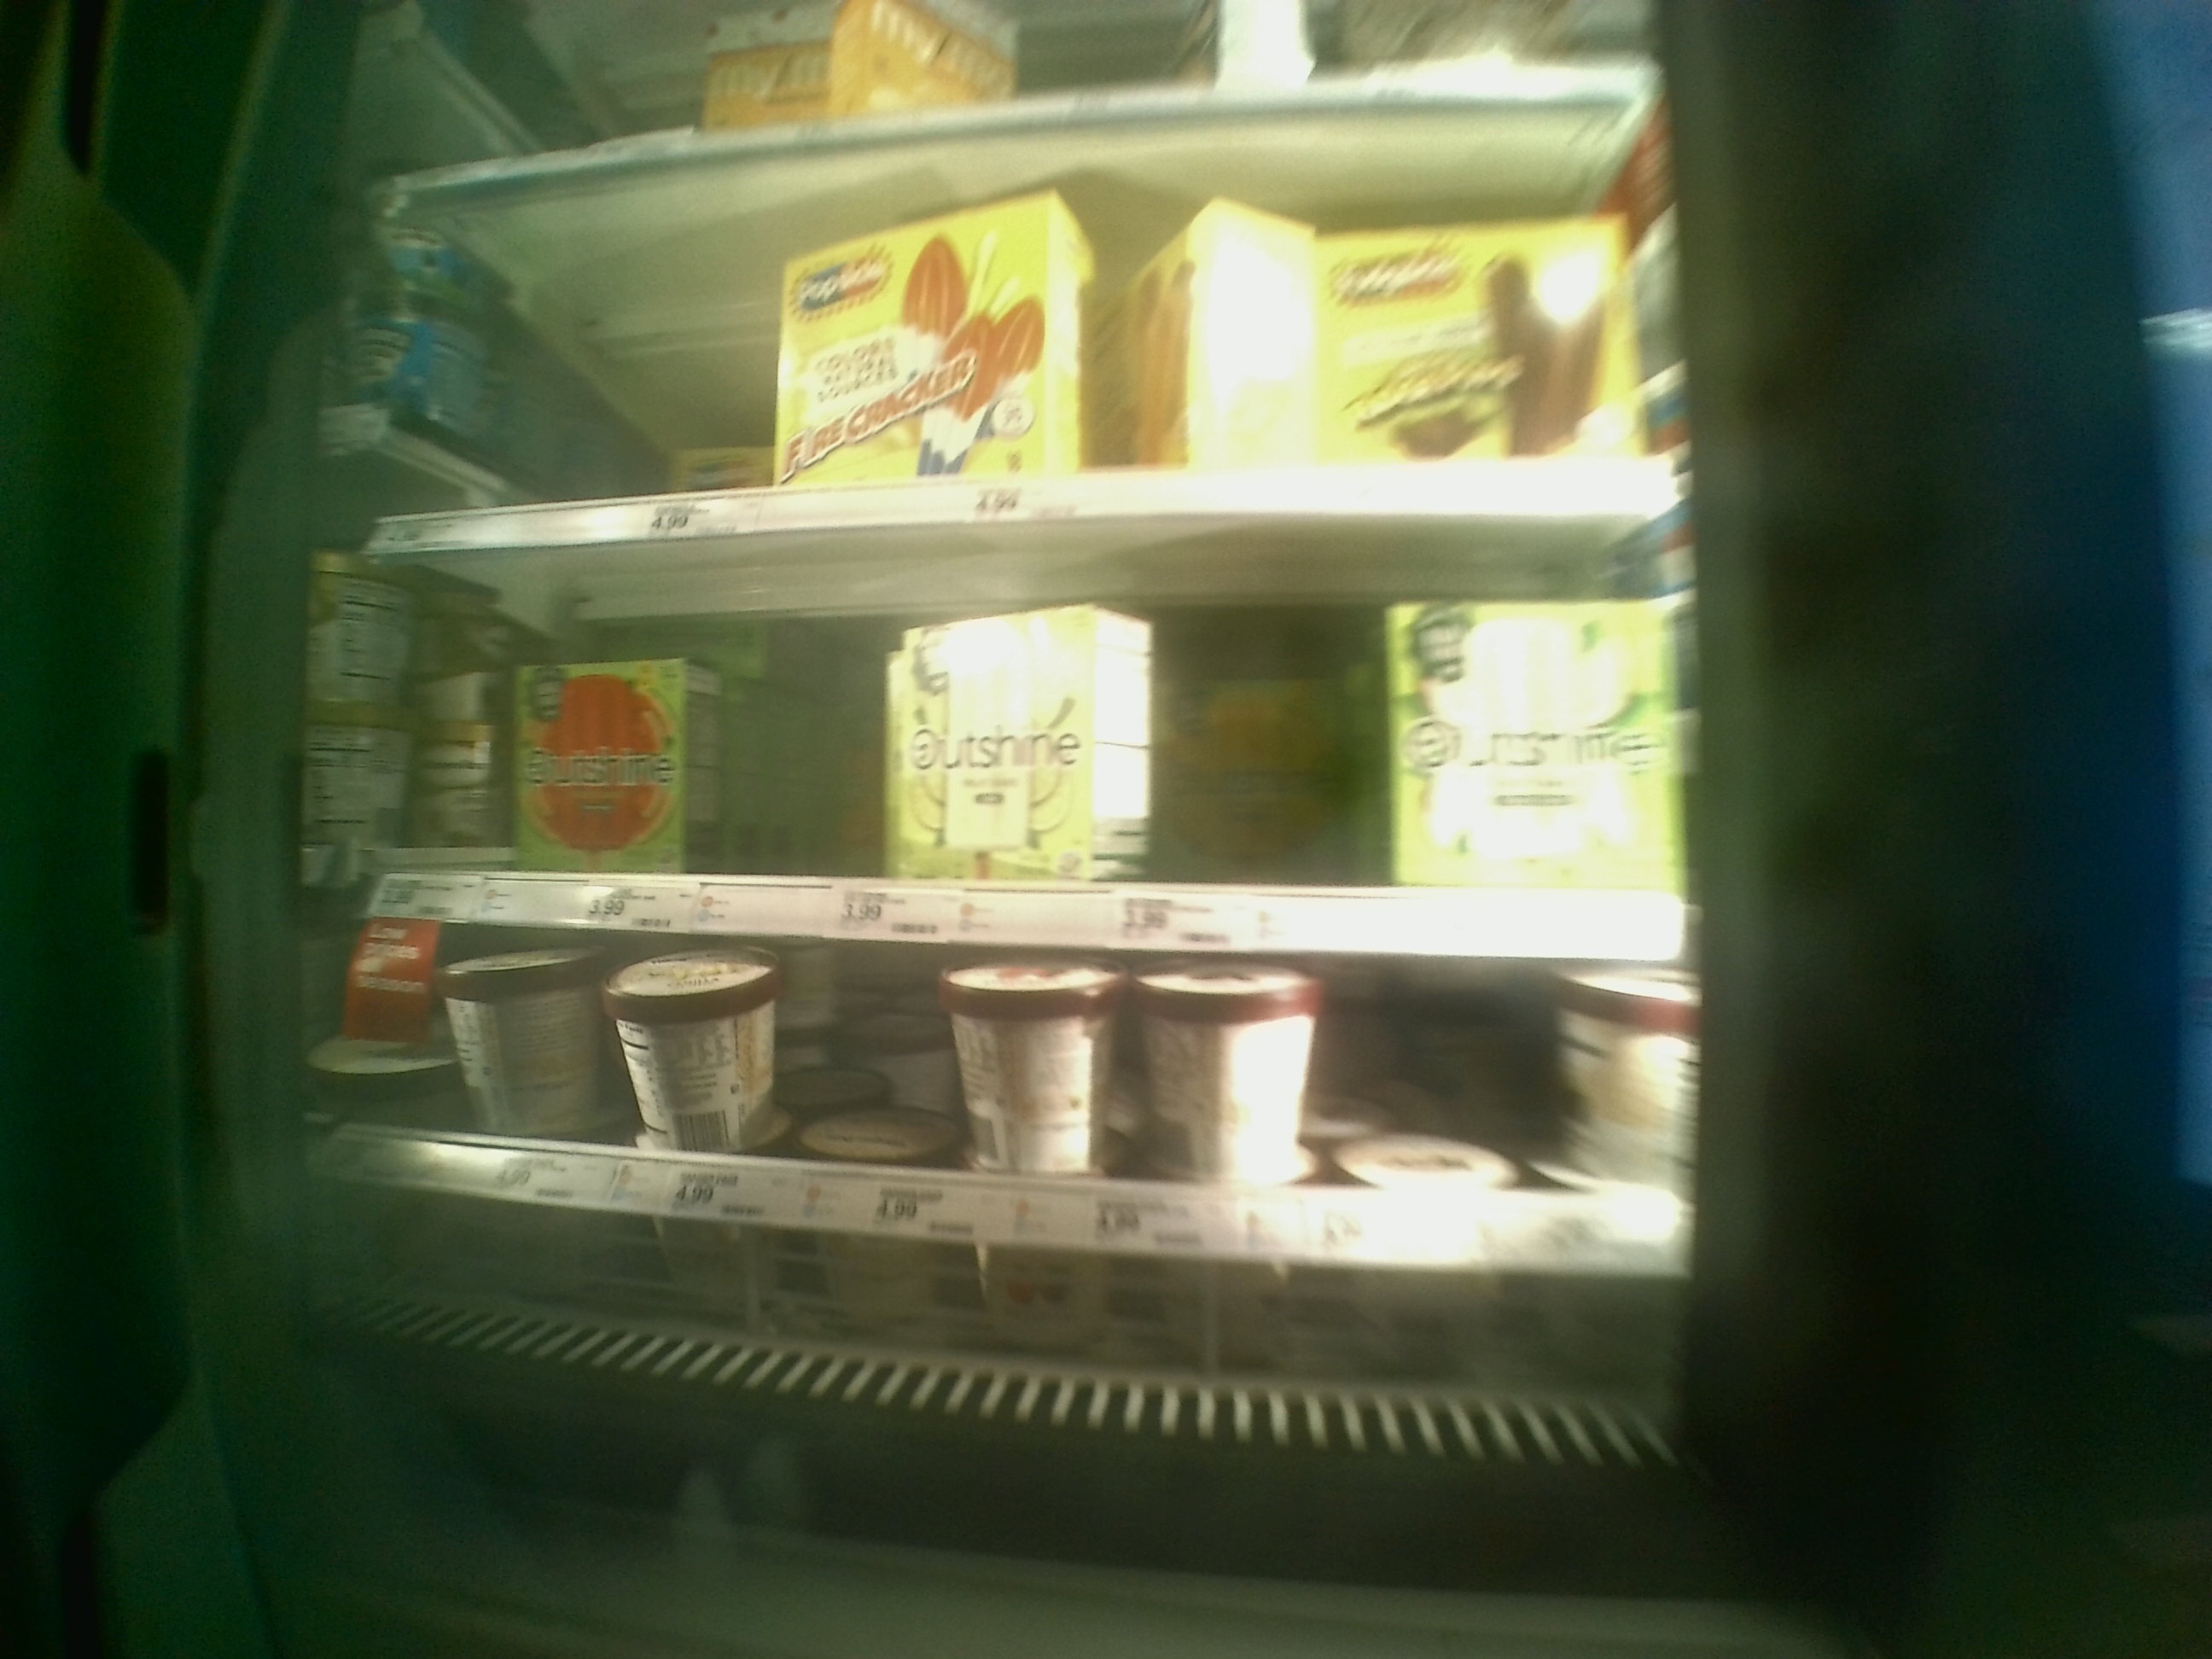shelf: (366, 521, 1702, 972), (366, 113, 1674, 556), (348, 927, 1707, 1342)
